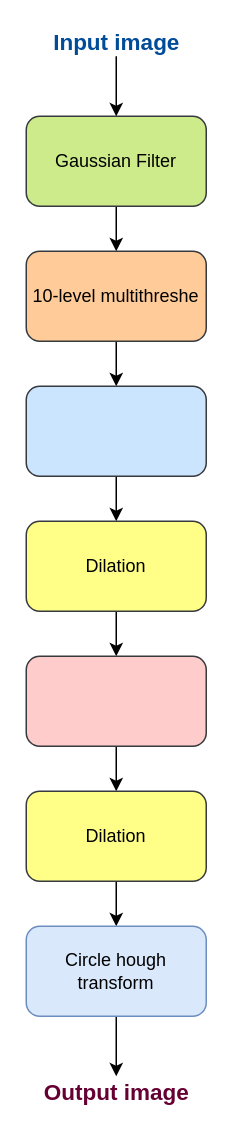
The diagram is 233 pixels wide and 1131 high, and some of its shapes have lost their labels. The shapes that lost their labels are listed below. From the top down, each one's centre as x and y in pixels, then its label:
At (x=115, y=430): "Opening".
At (x=115, y=700): "Canny edge detection".
